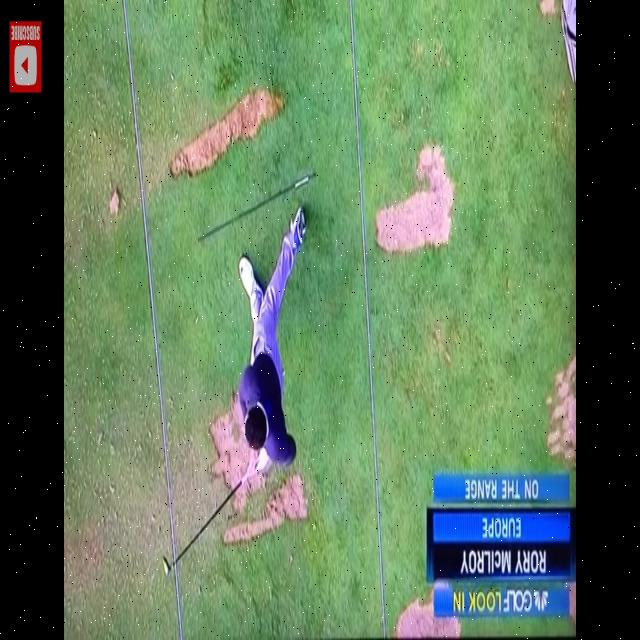humans: (235, 205, 310, 481)
